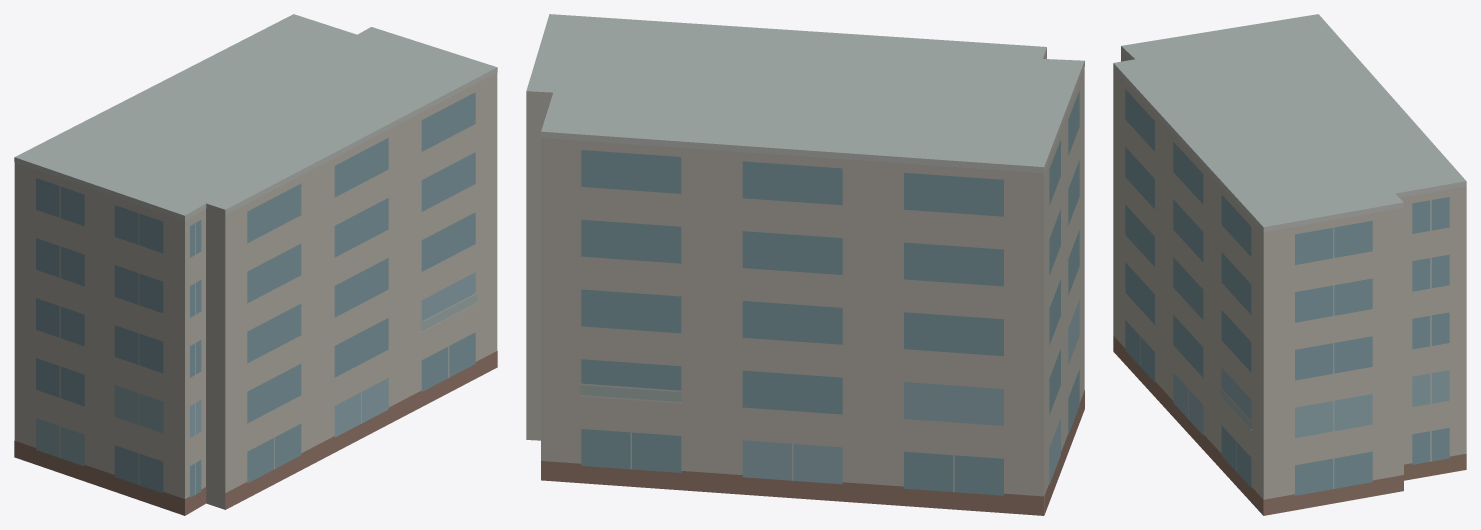
File: survey-upis-33001717.glb
3 renders of one model, left to right at view 1: azimuth 30°, elevation 25°; view 2: azimuth 150°, elevation 25°; view 3: azimuth 270°, elevation 25°, orthographic. The views are drawn at different scales.
Visible parts, largest first — view 1: survey-upis-33001717.tmp; view 2: survey-upis-33001717.tmp; view 3: survey-upis-33001717.tmp.
Part boxes in pixels (bbox=[...]): survey-upis-33001717.tmp: bbox=[14, 14, 497, 515]; survey-upis-33001717.tmp: bbox=[526, 14, 1084, 515]; survey-upis-33001717.tmp: bbox=[1113, 14, 1466, 515].
Size of the model in its own units: 21.99 by 13.87 by 15.39.
